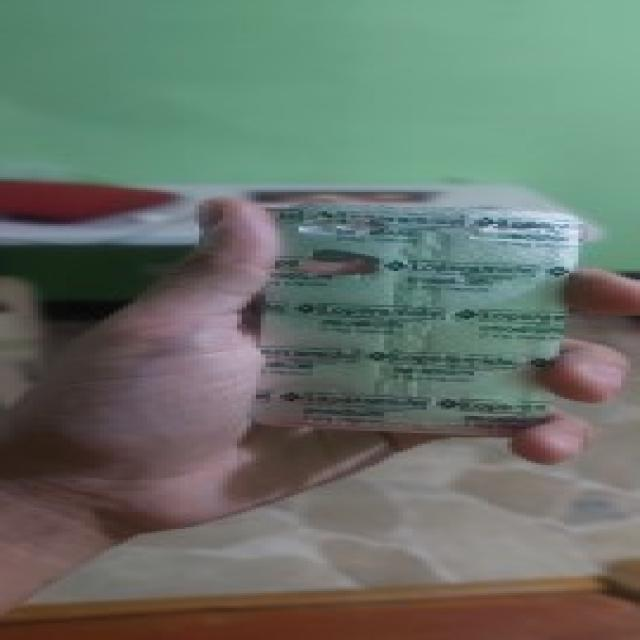Cacat: (271, 209, 578, 441)
Kemasan: (287, 245, 396, 283)
